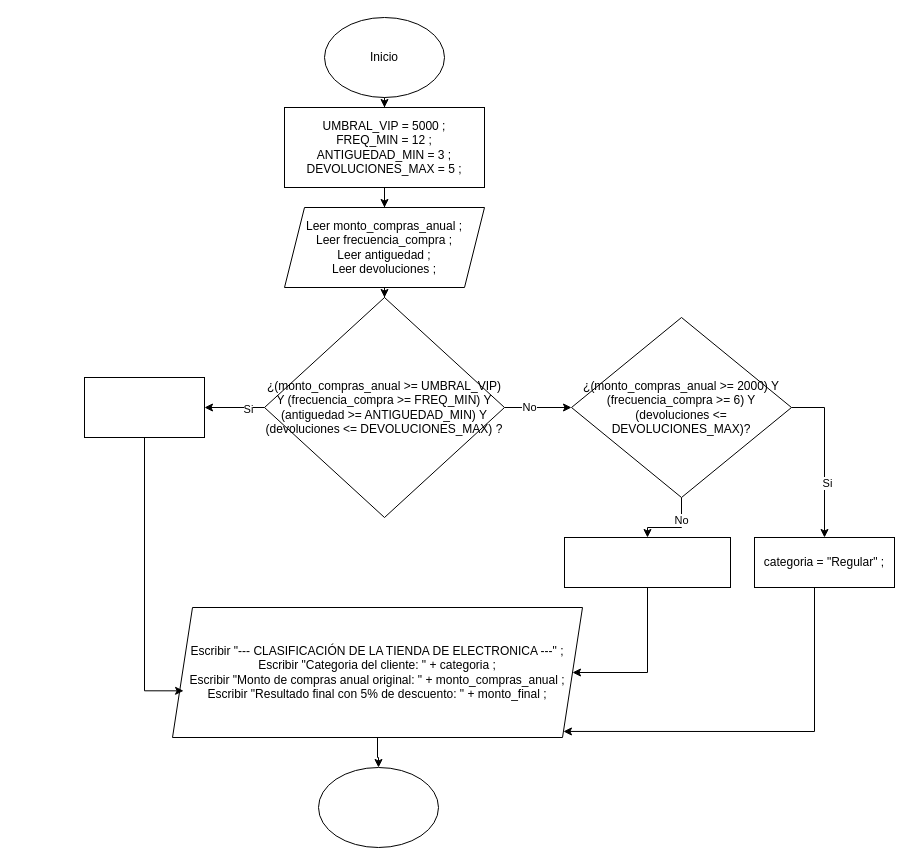
Some shapes in this 912 by 865 pixel diagram are drawn without their labels. Here are the shapes that lost their labels. From the top down, the centre of each, then its label:
point (144, 407): categoria = "VIP" ;
point (647, 562): categoria = "Ocasional" ;
point (378, 807): Fin
